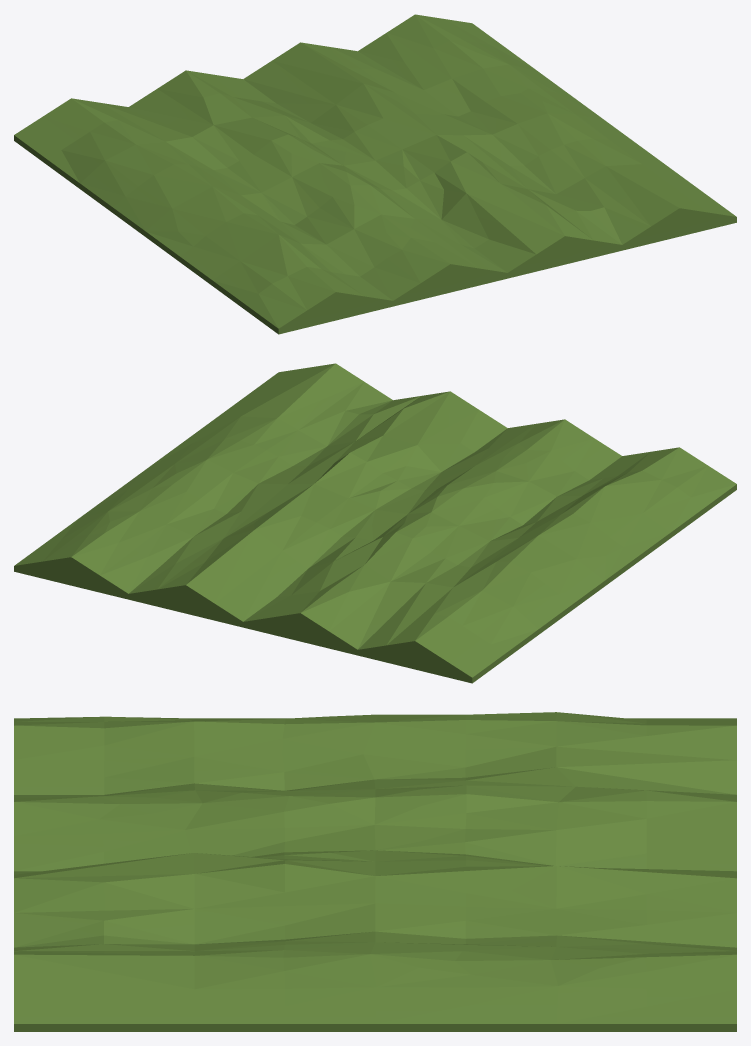
Rendered from Mud_04.fbx.
3 views of the same model, one above another, from view 1: azimuth 30°, elevation 25°; view 2: azimuth 150°, elevation 25°; view 3: azimuth 270°, elevation 25° (orthographic). The views are drawn at different scales.
Parts seen in each view (by area): view 1: Mud_04; view 2: Mud_04; view 3: Mud_04.
Boxes of the visible parts, x1=… form: Mud_04: x1=14, y1=14, x2=736, y2=334; Mud_04: x1=14, y1=363, x2=736, y2=683; Mud_04: x1=14, y1=712, x2=736, y2=1031.
Bounding box in the file's own units: 4 × 0.3305 × 4.
